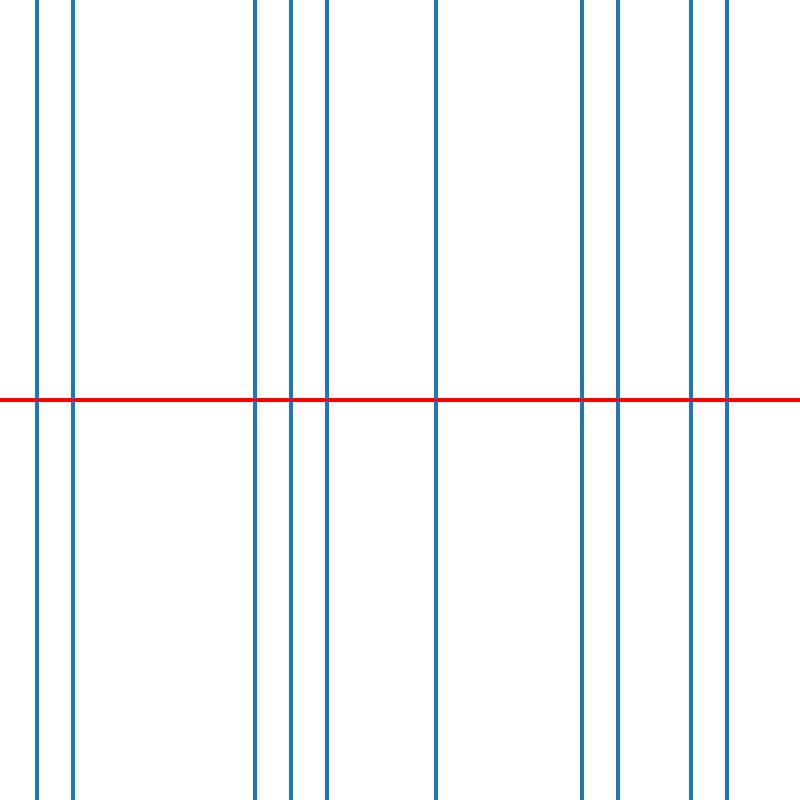root: (32, 396, 40, 404), (250, 396, 258, 404), (432, 396, 440, 404), (614, 396, 621, 404), (687, 396, 694, 404), (578, 396, 585, 404), (723, 396, 730, 404), (287, 396, 294, 404), (323, 396, 330, 404), (69, 396, 76, 404)
